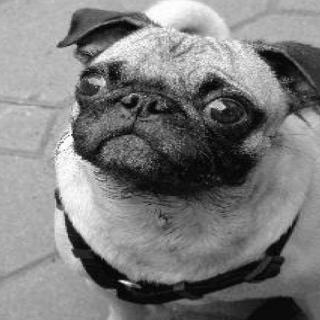dog: (47, 5, 320, 204)
nose: (122, 87, 177, 122)
